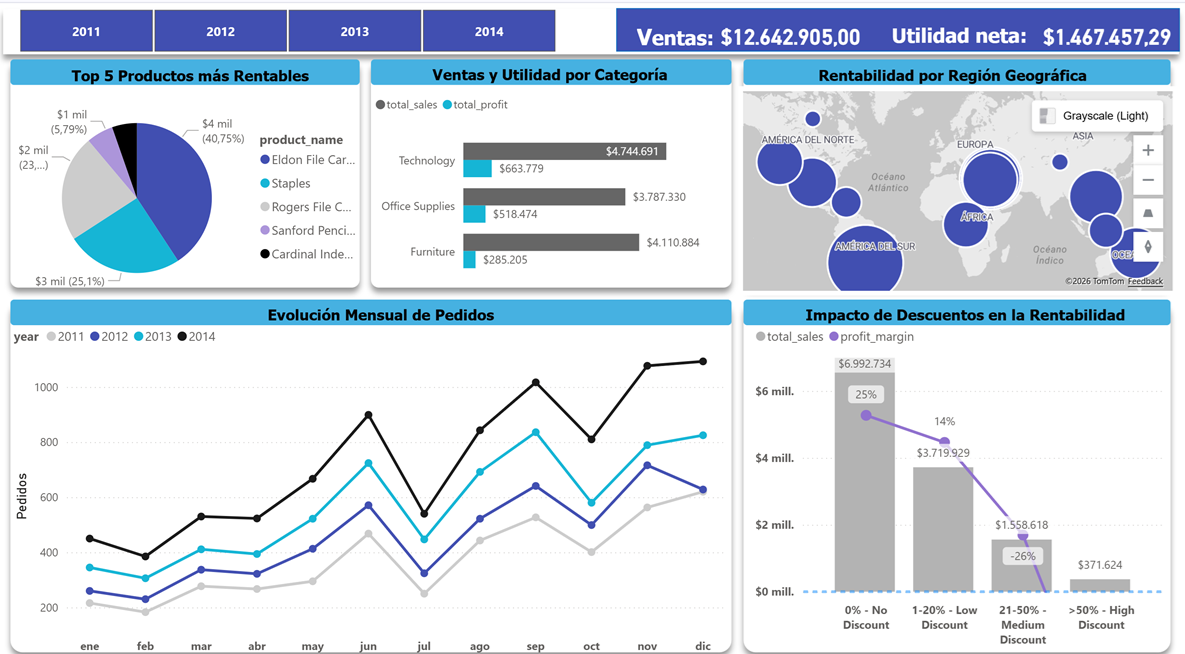

Layout of this report page (visuals, bound fields, positions):
{"tool":"powerbi","page":{"name":"Desempeño Global","canvas":[1280,720],"ordinal":0},"visuals":[{"type":"shape","box":[666.9,5.5,606.5,46.7],"z":0},{"type":"azureMap","title":"Total profit por region","fields":{"Category":["Global_Superstore_Clean.region"],"Size":["Global_Superstore_Clean.total_profit"]},"box":[798.6,89.2,472,225],"z":1000},{"type":"lineClusteredColumnComboChart","title":"Impacto de Descuentos en la Rentabilidad","fields":{"Category":["Global_Superstore_Clean.discount_range"],"Y":["Global_Superstore_Clean.total_sales"],"Y2":["Global_Superstore_Clean.profit_margin"]},"box":[811,337.6,450.1,362.3],"z":2000},{"type":"lineChart","title":"Evolución Mensual de Pedidos","fields":{"Category":["Global_Superstore_Clean.Month Name"],"Y":["Global_Superstore_Clean.total_orders"],"Series":["Global_Superstore_Clean.year"]},"box":[13.7,337.6,775.3,371.9],"z":3000},{"type":"clusteredBarChart","title":"Ventas y Utilidad por Categoría","fields":{"Category":["Global_Superstore_Clean.category"],"Y":["Global_Superstore_Clean.total_sales","Global_Superstore_Clean.total_profit"]},"box":[402.1,89.2,387,222.3],"z":4000},{"type":"slicer","fields":{"Values":["Global_Superstore_Clean.year"]},"box":[0,0,625.7,59],"z":5000},{"type":"card","fields":{"Values":["Global_Superstore_Clean.total_sales"]},"box":[739.6,16.5,230.5,38.4],"z":6000},{"type":"textbox","box":[684.7,16.5,141.3,42.5],"z":7000},{"type":"card","fields":{"Values":["Global_Superstore_Clean.total_profit"]},"box":[1108.8,16.5,171.5,38.4],"z":8000},{"type":"pieChart","title":"Top 5 Productos más Rentables","fields":{"Category":["Global_Superstore_Clean.product_name"],"Y":["Global_Superstore_Clean.total_profit"]},"box":[13.7,59,388.3,300.5],"z":9000},{"type":"textbox","box":[959.2,16.5,164.7,35.7],"z":10000}]}

Visuals, with their boxes in screenshot pixels (x1, y1, x2, y2), scaled from the page's 1280x720 canvas onto the 1185x654 screenshot:
shape: (617, 5, 1179, 47)
"Total profit por region" azureMap: (739, 81, 1176, 285)
"Impacto de Descuentos en la Rentabilidad" lineClusteredColumnComboChart: (751, 307, 1168, 636)
"Evolución Mensual de Pedidos" lineChart: (13, 307, 730, 644)
"Ventas y Utilidad por Categoría" clusteredBarChart: (372, 81, 731, 283)
slicer - Global_Superstore_Clean.year: (0, 0, 579, 54)
card - Global_Superstore_Clean.total_sales: (685, 15, 898, 50)
textbox: (634, 15, 765, 54)
card - Global_Superstore_Clean.total_profit: (1027, 15, 1184, 50)
"Top 5 Productos más Rentables" pieChart: (13, 54, 372, 327)
textbox: (888, 15, 1040, 47)
